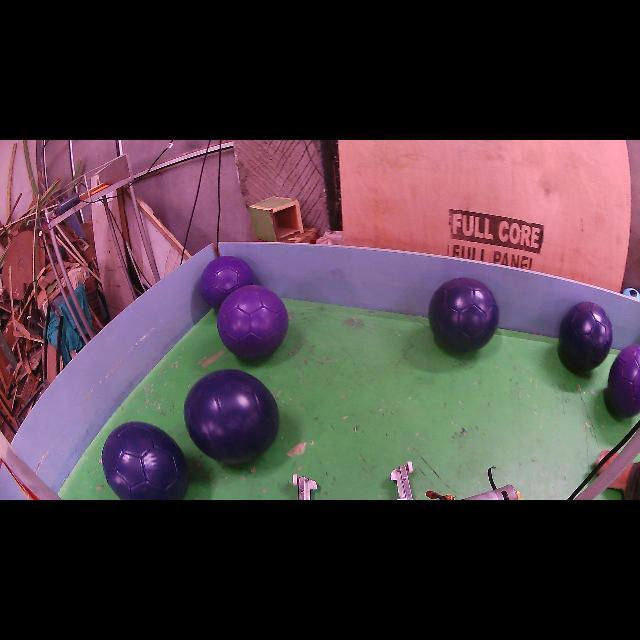B: (184, 370, 279, 464), (101, 421, 190, 500), (429, 278, 499, 351), (558, 301, 612, 374)
P: (218, 285, 289, 359), (200, 256, 255, 309), (605, 345, 640, 418)
